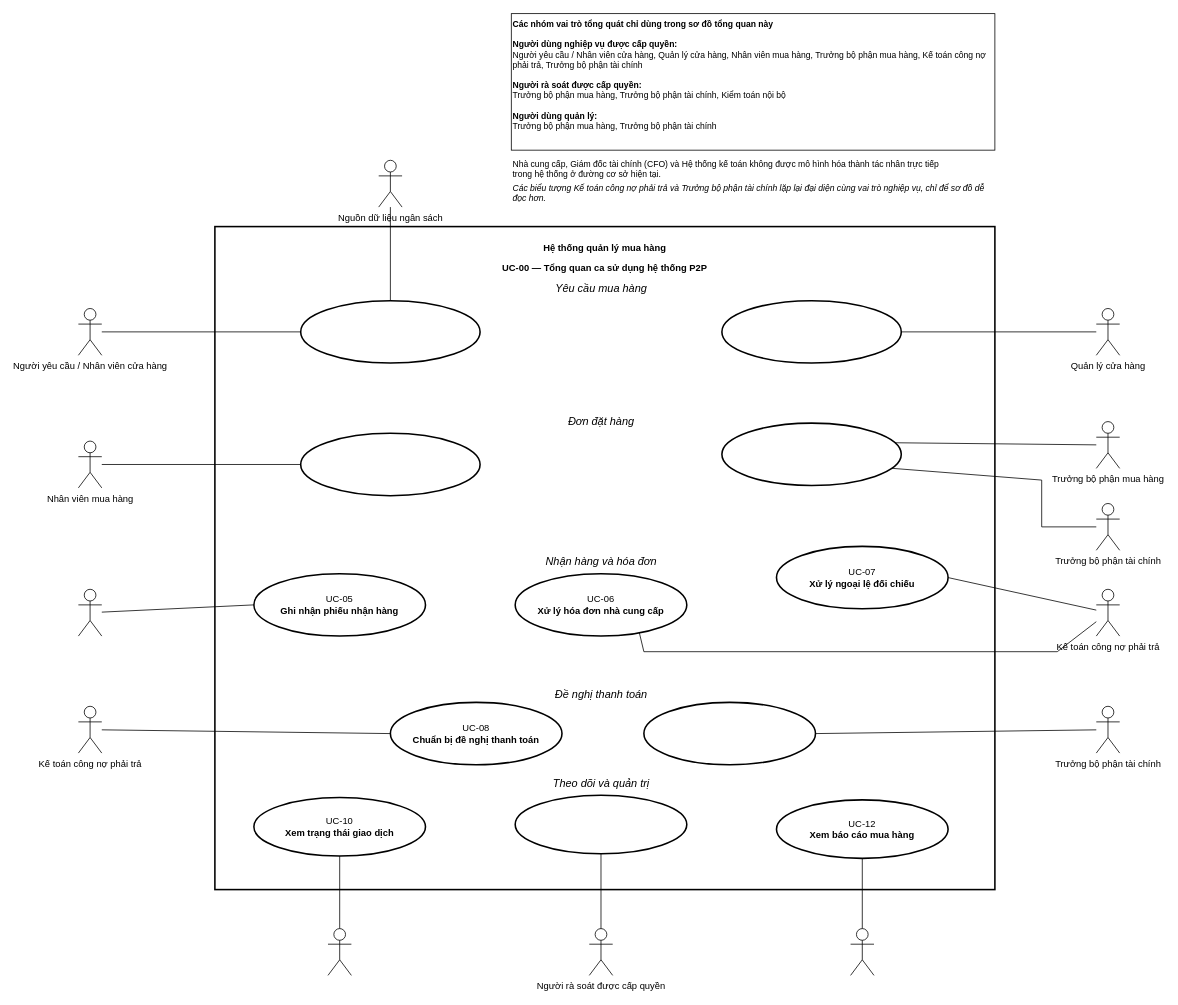
The diagram is 1178 pixels wide and 1005 high, and some of its shapes have lost their labels. Each missing label, with the centre of its shape:
Người dùng nghiệp vụ được cấp quyền: the point at 339,951
Người dùng quản lý: the point at 862,951
Nhân viên kho: the point at 90,612
UC-01 Tạo và gửi yêu cầu mua hàng: the point at 390,331
UC-02 Xem xét yêu cầu mua hàng: the point at 811,331
UC-03 Tạo và gửi đơn đặt hàng: the point at 390,464
UC-04 Xem xét đơn đặt hàng: the point at 811,454
UC-09 Xem xét đề nghị thanh toán: the point at 729,733
UC-11 Xem lịch sử giao dịch: the point at 600,824
